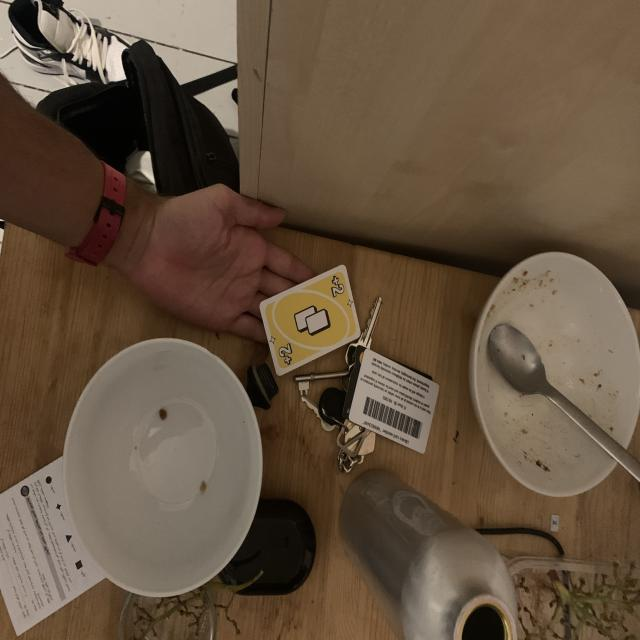lyellow-20: (324, 271, 348, 303)
